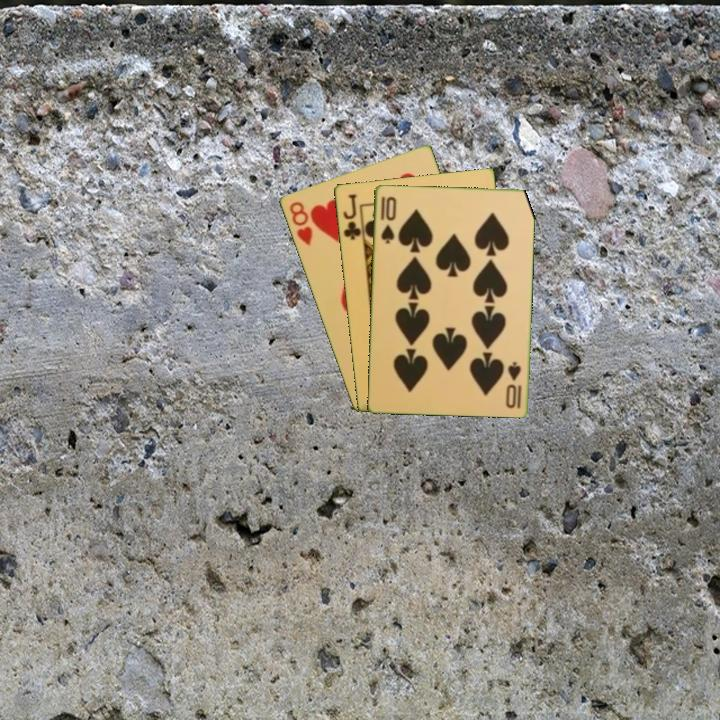10s: (377, 192, 399, 246), (502, 358, 524, 411)
8h: (286, 198, 315, 249)
Jc: (339, 190, 364, 243)
